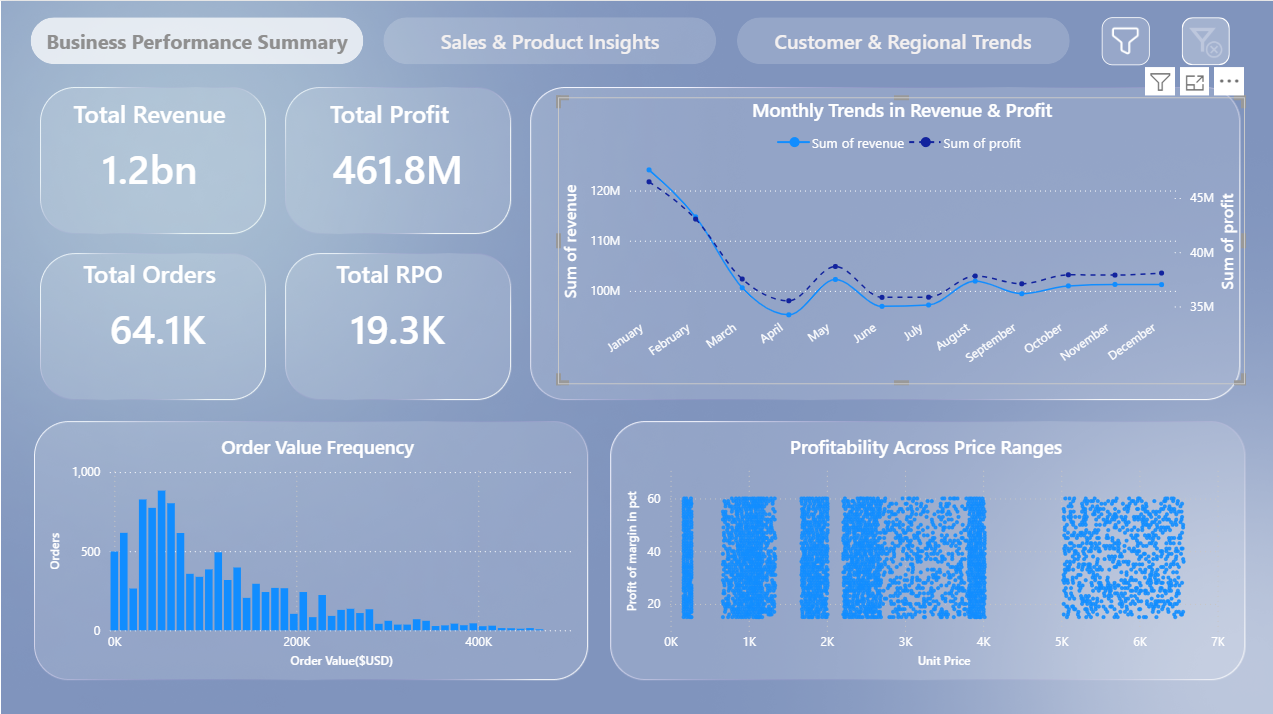

This screenshot's page, from the dashboard's own definition file:
{"tool":"powerbi","page":{"name":"Business Performance Summary","canvas":[1280,720],"ordinal":0},"visuals":[{"type":"card","title":"sad","fields":{"Values":["Sum(EDA_MASTER_DATA.revenue)"]},"box":[64,128,176,80],"z":0},{"type":"card","title":"sad","fields":{"Values":["Sum(EDA_MASTER_DATA.profit)"]},"box":[304,128,192,80],"z":1000},{"type":"card","title":"sad","fields":{"Values":["Query1.RPO"]},"box":[304,288,192,80],"z":2000},{"type":"card","title":"sad","fields":{"Values":["CountNonNull(EDA_MASTER_DATA.order_number)"]},"box":[64,288,192,80],"z":3000},{"type":"textbox","title":"Total Revenue","box":[48,96,208,32],"z":4000},{"type":"textbox","title":"Total Profit","box":[288,96,208,32],"z":5000},{"type":"textbox","title":"Total Orders","box":[48,256,208,32],"z":6000},{"type":"textbox","title":"Total RPO","box":[288,256,208,32],"z":7000},{"type":"lineChart","title":"Monthly Trends in Revenue & Profit","fields":{"Y":["Sum(EDA_MASTER_DATA.revenue)"],"Y2":["Sum(EDA_MASTER_DATA.profit)"],"Category":["EDA_MASTER_DATA.order_date.Variation.Date Hierarchy.Month"]},"box":[560,96,688,288],"z":8000},{"type":"columnChart","title":"Order Value Frequency","fields":{"Category":["Order_Value_Distribution.OrderValue (bins)"],"Y":["CountNonNull(Order_Value_Distribution.order_number)"]},"box":[48,432,544,240],"z":9000},{"type":"scatterChart","title":"Profitability Across Price Ranges","fields":{"X":["EDA_MASTER_DATA.unit_price"],"Y":["EDA_MASTER_DATA.profit_margin_pct"]},"box":[624,432,608,240],"z":10000},{"type":"image","box":[1104,16,48,48],"z":11000},{"type":"actionButton","box":[1184,16,48,48],"z":12000},{"type":"pageNavigator","box":[32,16,1040,48],"z":14000}]}

Visuals, with their boxes in screenshot pixels (x1, y1, x2, y2), scaled from the page's 1280x720 canvas onto the 1273x714 screenshot:
"sad" card: left=64, top=127, right=239, bottom=206
"sad" card: left=302, top=127, right=493, bottom=206
"sad" card: left=302, top=286, right=493, bottom=365
"sad" card: left=64, top=286, right=255, bottom=365
"Total Revenue" textbox: left=48, top=95, right=255, bottom=127
"Total Profit" textbox: left=286, top=95, right=493, bottom=127
"Total Orders" textbox: left=48, top=254, right=255, bottom=286
"Total RPO" textbox: left=286, top=254, right=493, bottom=286
"Monthly Trends in Revenue & Profit" lineChart: left=557, top=95, right=1241, bottom=381
"Order Value Frequency" columnChart: left=48, top=428, right=589, bottom=666
"Profitability Across Price Ranges" scatterChart: left=621, top=428, right=1225, bottom=666
image: left=1098, top=16, right=1146, bottom=63
actionButton: left=1178, top=16, right=1225, bottom=63
pageNavigator: left=32, top=16, right=1066, bottom=63
